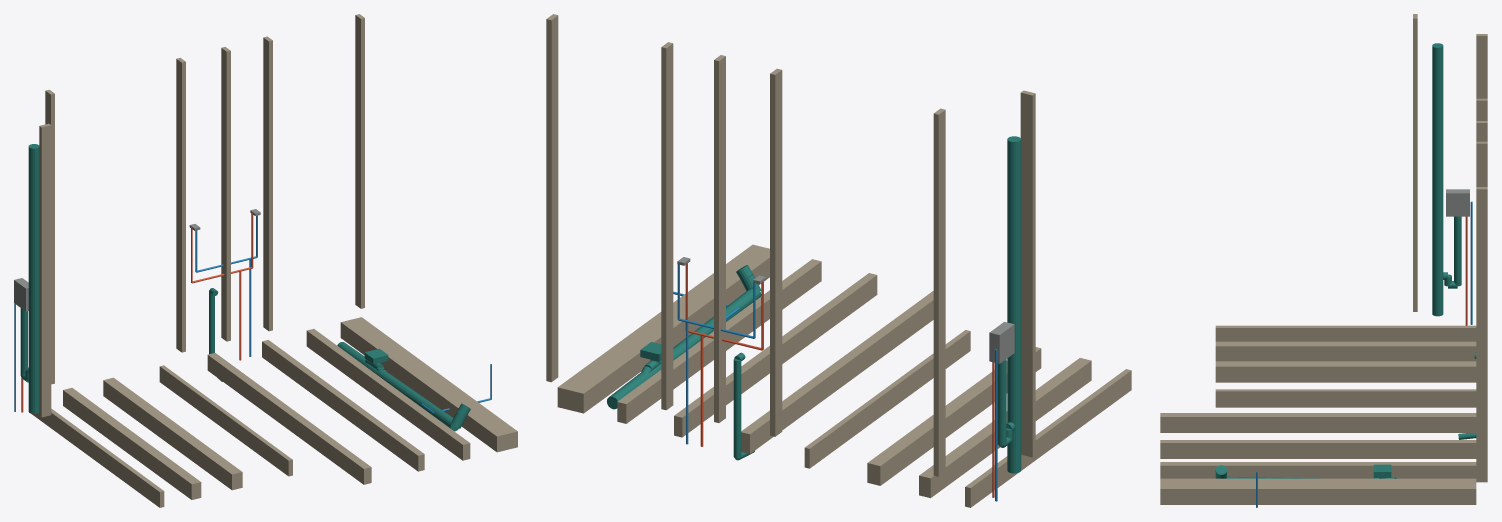
The model's file is rough-in-study.glb.
3 views of the same model, side by side, from view 1: azimuth 30°, elevation 25°; view 2: azimuth 150°, elevation 25°; view 3: azimuth 270°, elevation 25° (orthographic). The views are drawn at different scales.
Visible parts, largest first — view 1: Part 059, Part 056, Part 058, Part 208, Part 057, Part 054, Part 053, Part 094, Part 103, Part 105, Part 107, Part 104 (+5 smaller); view 2: Part 059, Part 208, Part 056, Part 057, Part 101, Part 105, Part 107, Part 103, Part 094, Part 058, Part 104, Part 054 (+9 smaller); view 3: Part 059, Part 056, Part 057, Part 054, Part 053, Part 055, Part 058, Part 052, Part 107, Part 094, Part 208, Part 101 (+3 smaller).
Boxes of the visible parts, left/top/right/bottom form: Part 059: left=340, top=317, right=517, bottom=452; Part 056: left=207, top=353, right=371, bottom=484; Part 058: left=306, top=329, right=470, bottom=460; Part 208: left=39, top=123, right=51, bottom=417; Part 057: left=262, top=340, right=424, bottom=471; Part 054: left=103, top=377, right=242, bottom=490; Part 053: left=63, top=388, right=201, bottom=499; Part 094: left=28, top=144, right=39, bottom=413; Part 103: left=176, top=57, right=185, bottom=352; Part 105: left=263, top=36, right=272, bottom=331; Part 107: left=355, top=14, right=364, bottom=308; Part 104: left=221, top=47, right=230, bottom=341; Part 059: left=557, top=244, right=769, bottom=413; Part 208: left=1020, top=90, right=1035, bottom=457; Part 056: left=741, top=291, right=933, bottom=453; Part 057: left=674, top=273, right=877, bottom=437; Part 101: left=933, top=108, right=945, bottom=476; Part 105: left=661, top=42, right=673, bottom=410; Part 107: left=546, top=14, right=558, bottom=382; Part 103: left=770, top=68, right=782, bottom=436; Part 094: left=1007, top=136, right=1021, bottom=473; Part 058: left=617, top=259, right=821, bottom=423; Part 104: left=714, top=55, right=725, bottom=422; Part 054: left=867, top=347, right=1041, bottom=485; Part 059: left=1160, top=478, right=1476, bottom=504; Part 056: left=1160, top=413, right=1476, bottom=432; Part 057: left=1160, top=440, right=1476, bottom=458; Part 054: left=1215, top=361, right=1476, bottom=382; Part 053: left=1215, top=341, right=1476, bottom=361; Part 055: left=1215, top=389, right=1476, bottom=407; Part 058: left=1160, top=462, right=1476, bottom=478; Part 052: left=1215, top=325, right=1476, bottom=341; Part 107: left=1476, top=187, right=1487, bottom=482; Part 094: left=1432, top=43, right=1443, bottom=316; Part 208: left=1413, top=14, right=1417, bottom=311; Part 101: left=1476, top=34, right=1487, bottom=98.
Bounding box in the file's own units: 3.44 × 2.83 × 2.58.
